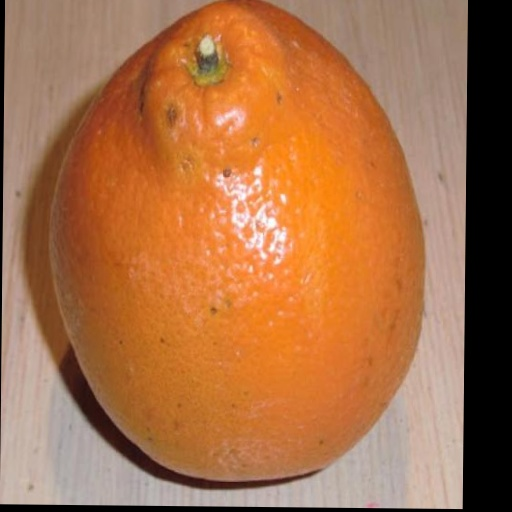fruit: (50, 0, 424, 480)
